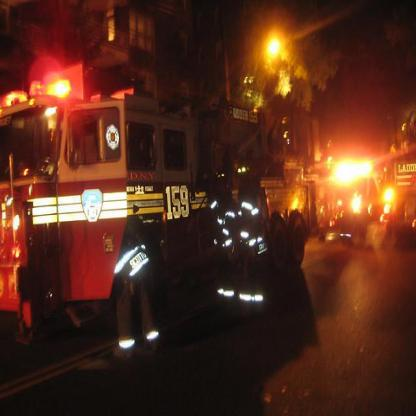other: (326, 150, 376, 188), (256, 30, 292, 76), (39, 74, 77, 106), (349, 190, 367, 218), (379, 184, 398, 208)
